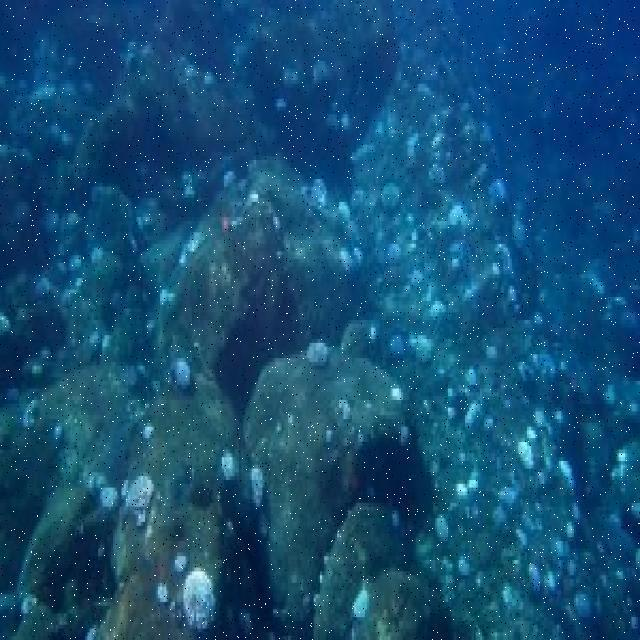Bleached: (180, 547, 224, 640), (165, 344, 202, 397), (302, 330, 336, 381), (125, 476, 154, 532), (557, 448, 583, 500), (223, 440, 238, 489)
